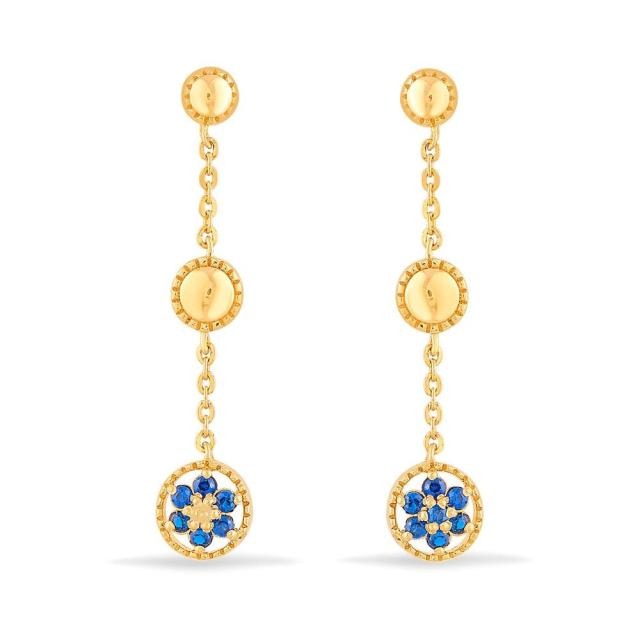missing gem: (191, 503, 212, 523)
